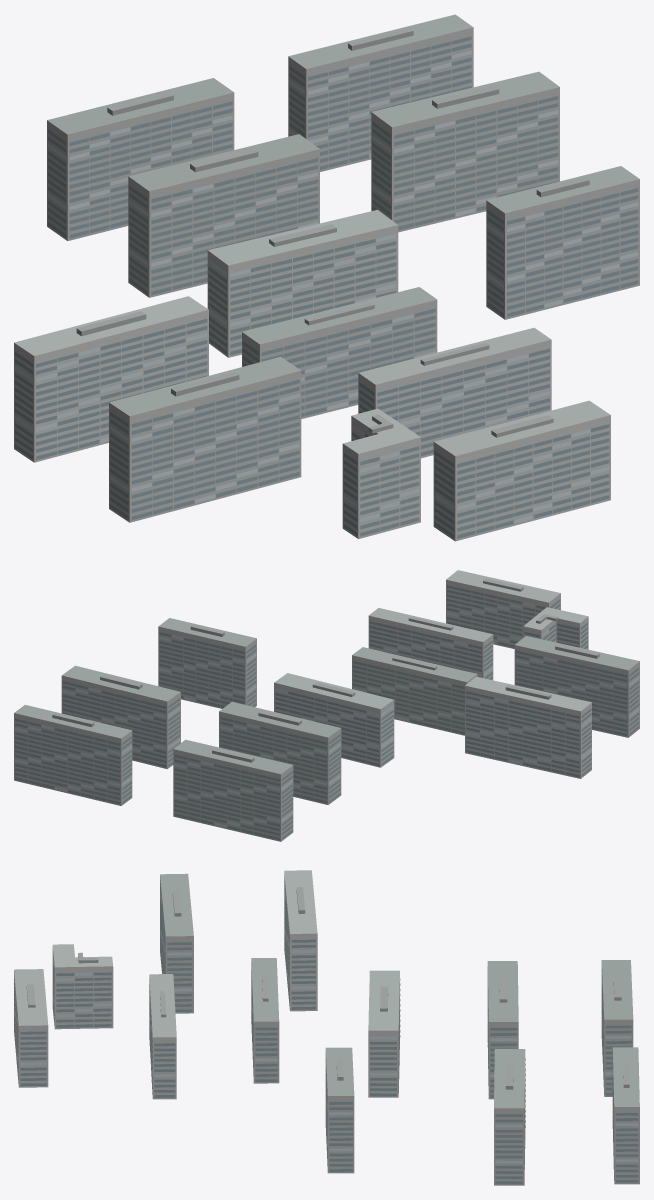
File: apt-a15286809.glb
The picture shows the model from 3 angles, top to bottom: view 1: azimuth 30°, elevation 25°; view 2: azimuth 150°, elevation 25°; view 3: azimuth 270°, elevation 25°; orthographic projection. The views are drawn at different scales.
Parts seen in each view (by area): view 1: apt-a15286809; view 2: apt-a15286809; view 3: apt-a15286809.
Part boxes in pixels (x1,y1,x2,y2): apt-a15286809: (14, 14, 639, 541); apt-a15286809: (14, 570, 639, 841); apt-a15286809: (14, 870, 639, 1185).
Bounding box in the file's own units: 302 × 47.81 × 335.
